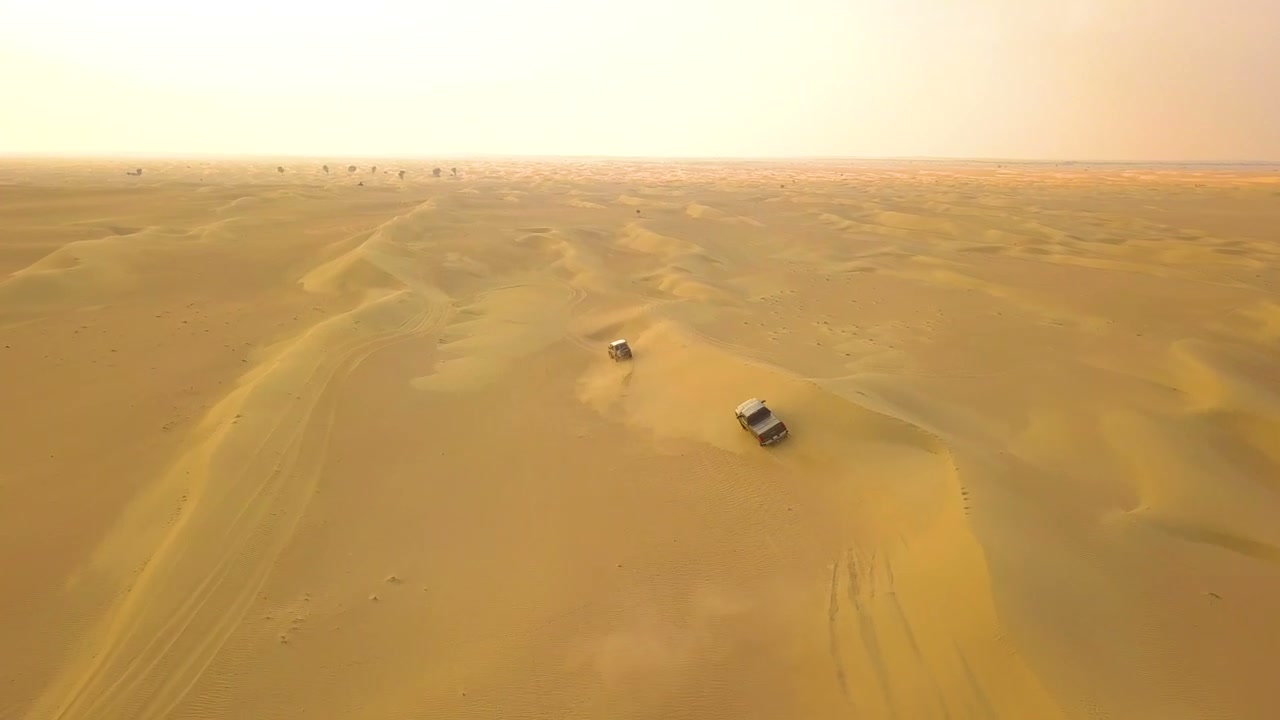vehicle_track: (66, 330, 389, 719), (791, 446, 979, 717)
